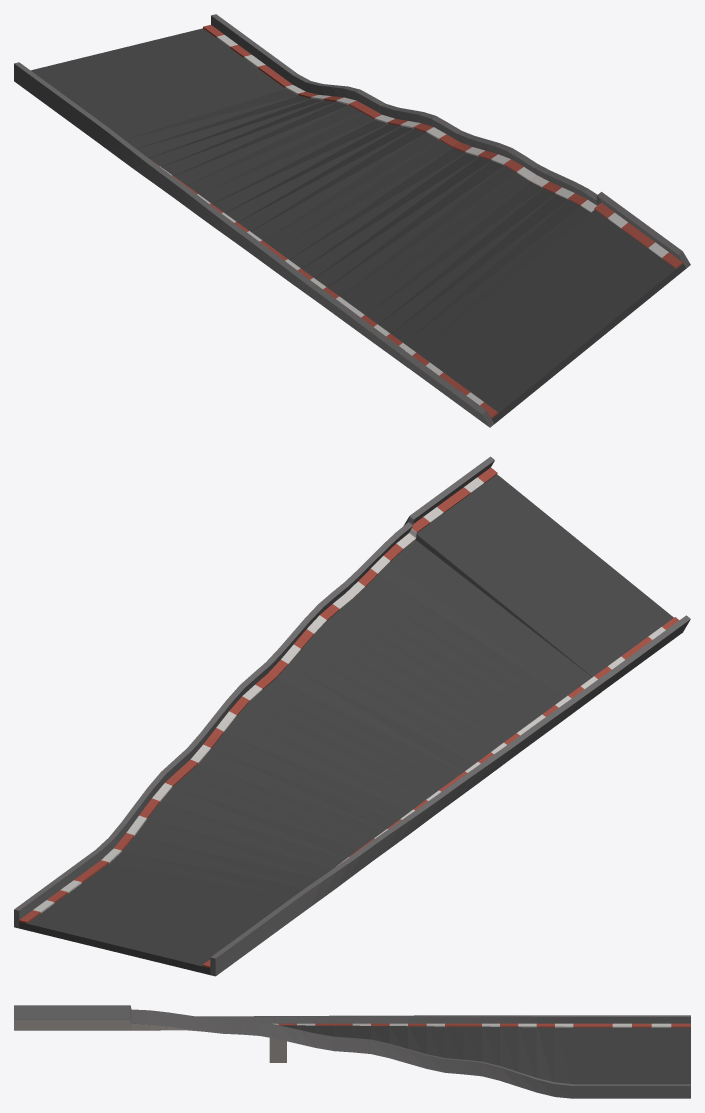
Rendered from tp-bank-entry-a.glb.
3 views of the same model, one above another, from view 1: azimuth 30°, elevation 25°; view 2: azimuth 150°, elevation 25°; view 3: azimuth 270°, elevation 25° (orthographic). The views are drawn at different scales.
Visible parts, largest first — view 1: tp-bank-entry-a; view 2: tp-bank-entry-a; view 3: tp-bank-entry-a.
Part boxes in pixels (left/top/right/bottom): tp-bank-entry-a: left=14, top=14, right=690, bottom=427; tp-bank-entry-a: left=14, top=456, right=690, bottom=976; tp-bank-entry-a: left=14, top=1005, right=690, bottom=1098.
Size of what is drawn, in the model's own units: 15.95 by 9.45 by 62.42.
Materials: 1 (1 with a texture image).
